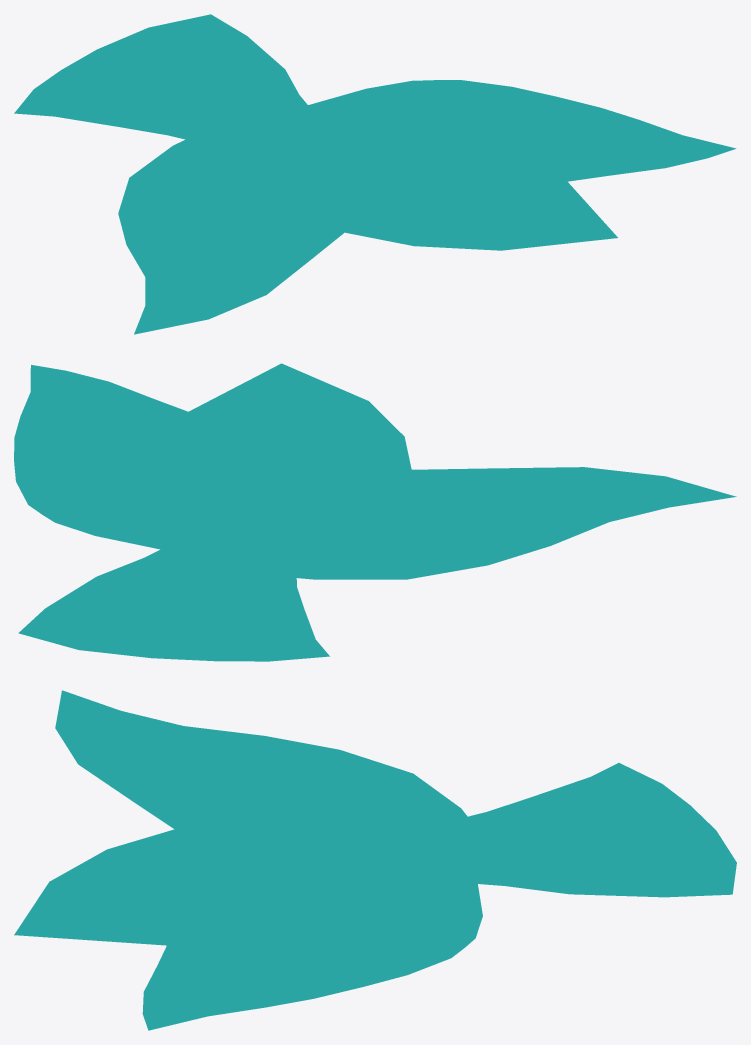
The model's file is eggplant_color_2.fbx.
The picture shows the model from 3 angles, top to bottom: view 1: azimuth 30°, elevation 25°; view 2: azimuth 150°, elevation 25°; view 3: azimuth 270°, elevation 25°; orthographic projection. The views are drawn at different scales.
Parts seen in each view (by area): view 1: eggplant_color_2; view 2: eggplant_color_2; view 3: eggplant_color_2.
Boxes of the visible parts, x1,y1,x2,y2 form: eggplant_color_2: (14,14,736,334); eggplant_color_2: (14,363,736,661); eggplant_color_2: (14,690,736,1030).
Size of the model in its own units: 37.71 by 0 by 33.83.
